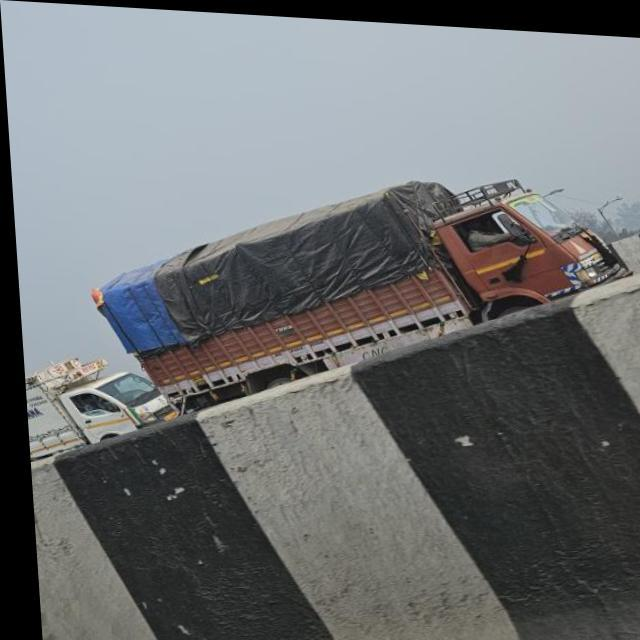covered: (47, 130, 639, 401)
uncovered: (20, 358, 171, 449)
